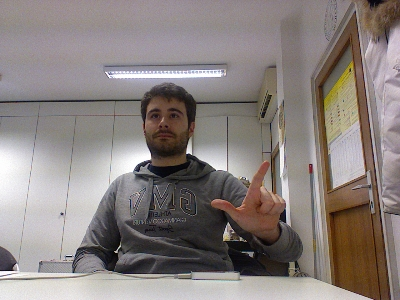枪: (208, 159, 286, 234)
